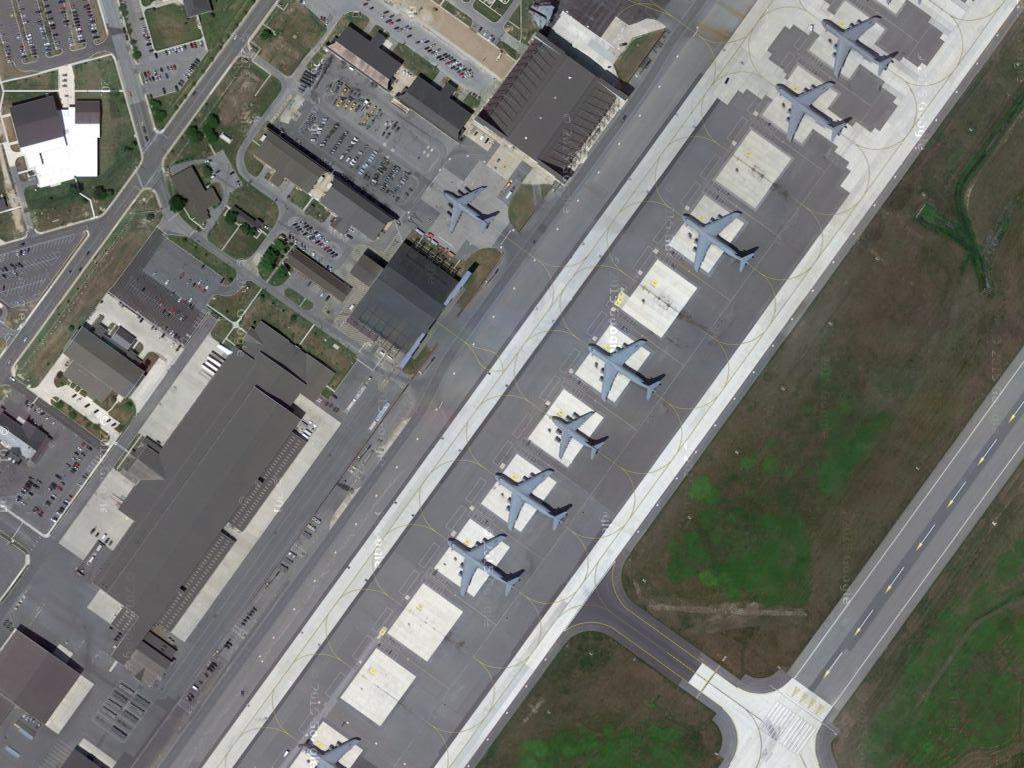C-17: (547, 404, 612, 466), (442, 176, 497, 235)
KC-135: (439, 526, 530, 601), (579, 334, 669, 402), (679, 203, 759, 279), (771, 74, 854, 139), (495, 461, 572, 531), (822, 10, 897, 79)
